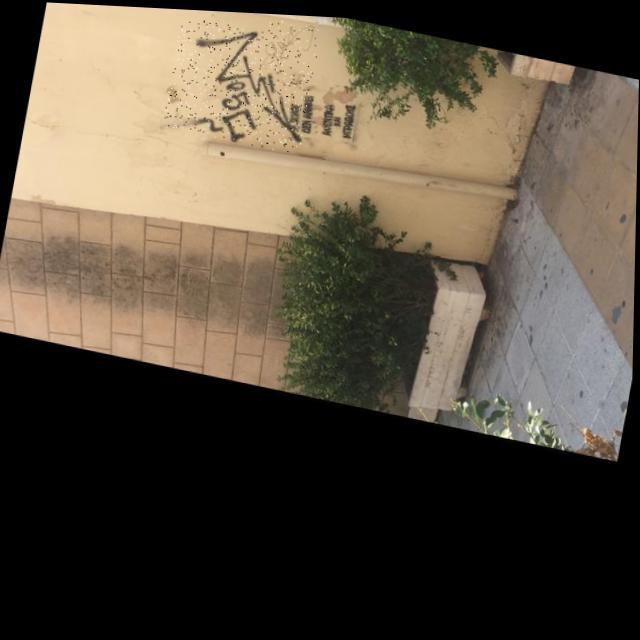-: (162, 13, 319, 153), (260, 15, 319, 70)
